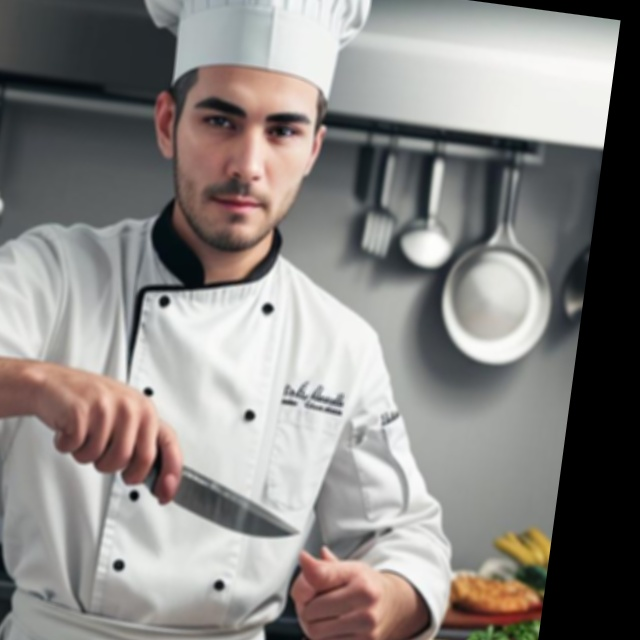Sharp-Object: (61, 421, 313, 544)
